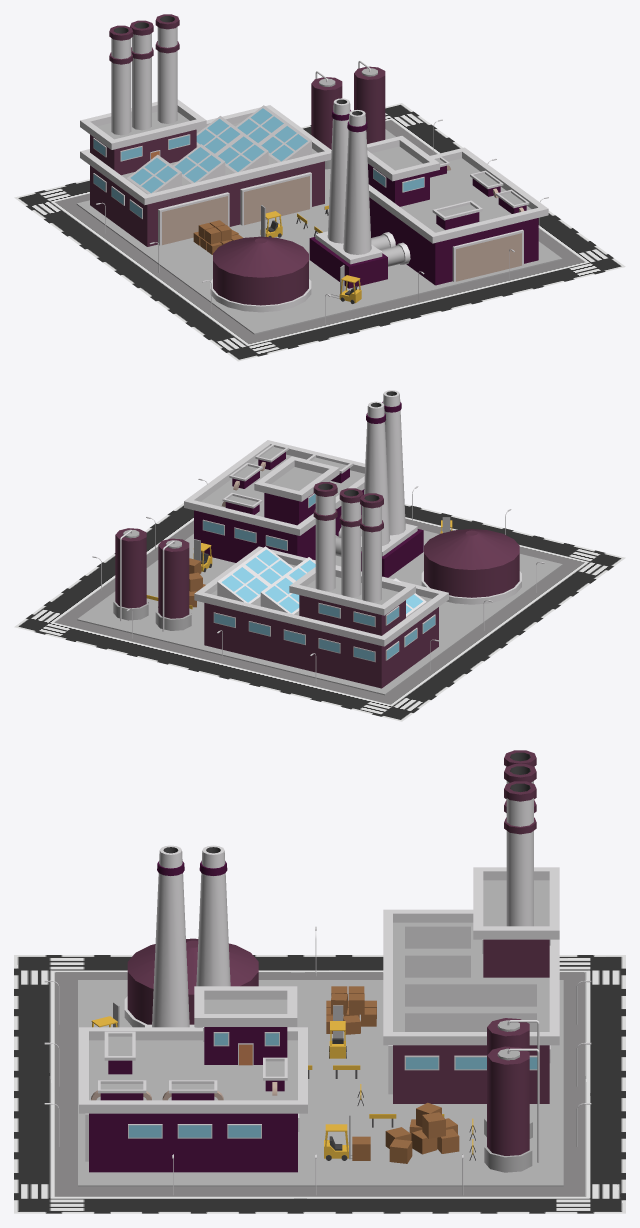
The model's file is IndustrialArea.fbx.
3 views of the same model, one above another, from view 1: azimuth 30°, elevation 25°; view 2: azimuth 150°, elevation 25°; view 3: azimuth 270°, elevation 25° (orthographic). The views are drawn at different scales.
Parts seen in each view (by area): view 1: IndustrialArea; view 2: IndustrialArea; view 3: IndustrialArea.
Part boxes in pixels (x1=…): IndustrialArea: x1=14, y1=14, x2=625, y2=361; IndustrialArea: x1=14, y1=390, x2=625, y2=721; IndustrialArea: x1=14, y1=750, x2=625, y2=1213.
Size of the model in its own units: 1000 by 450 by 1000.
Materials: 2 (2 with a texture image).
